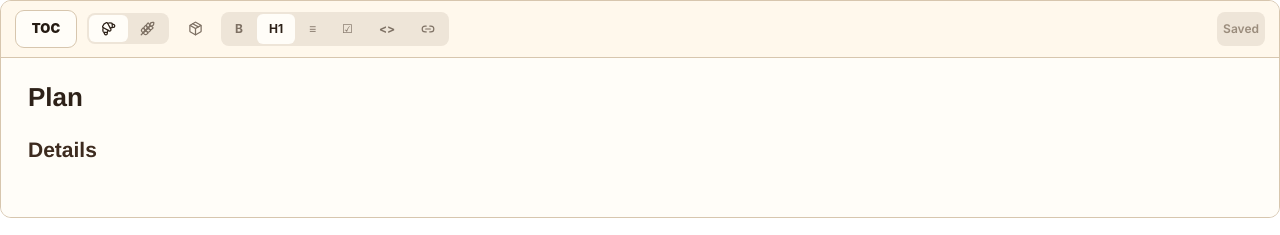
Scenario: MarkdownEditor › toggles the generated contents list
Step 1. Click the button with aria-label "Toggle table of contents" → [46, 29], box [15,10,77,48]
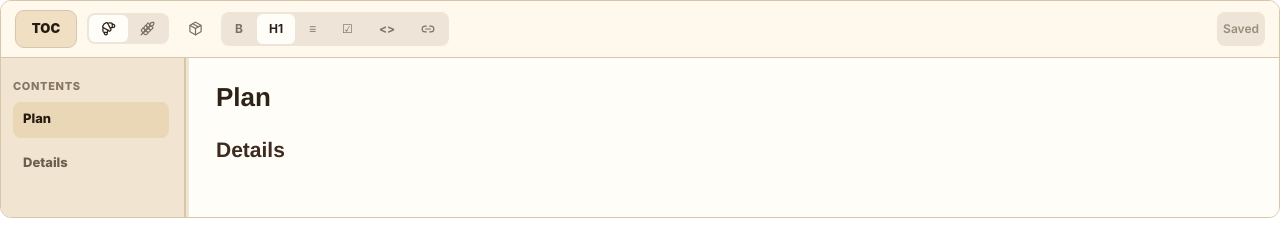
Expected: the link "Plan" is shown, [13,102,169,138]
